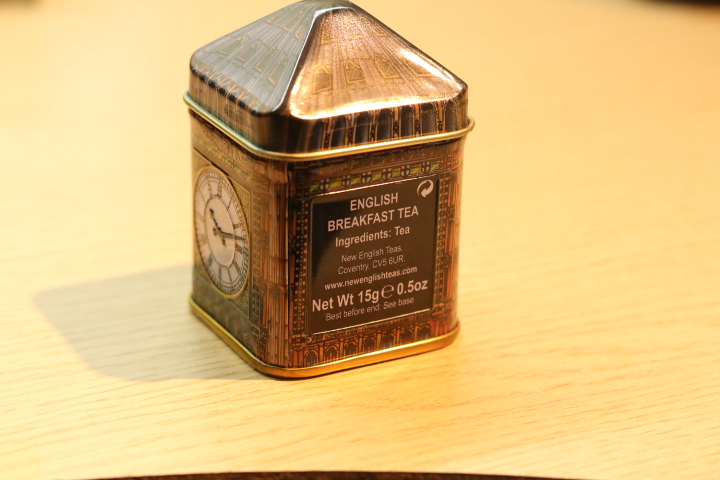Big Ben: (173, 1, 493, 398)
